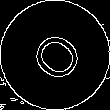O_SE: (21, 23, 89, 87)
